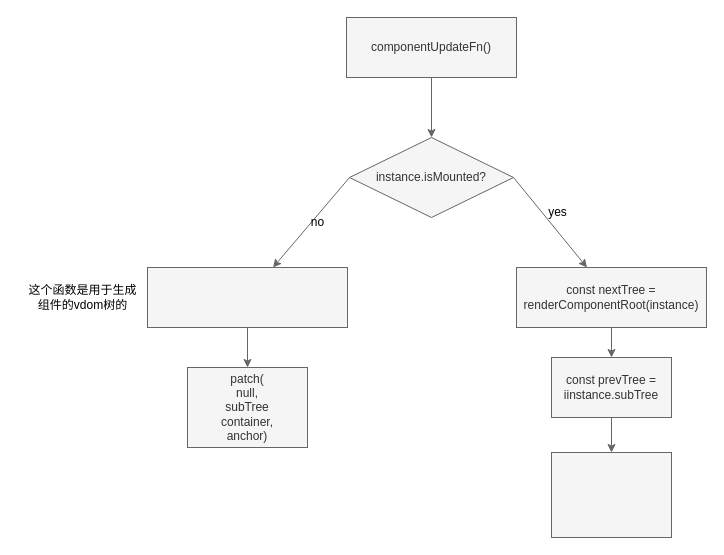
This 724x555 diagram has some shape labels left out. The shapes that lost their labels are listed below. From the top down, each one's centre as x and y in pixels, then its label:
At pixel 247 297: "const subTree = instance.subTree = renderComponentRoot(instance)".
At pixel 611 495: "patch( prevTree, nextTree, container, anchor)".
